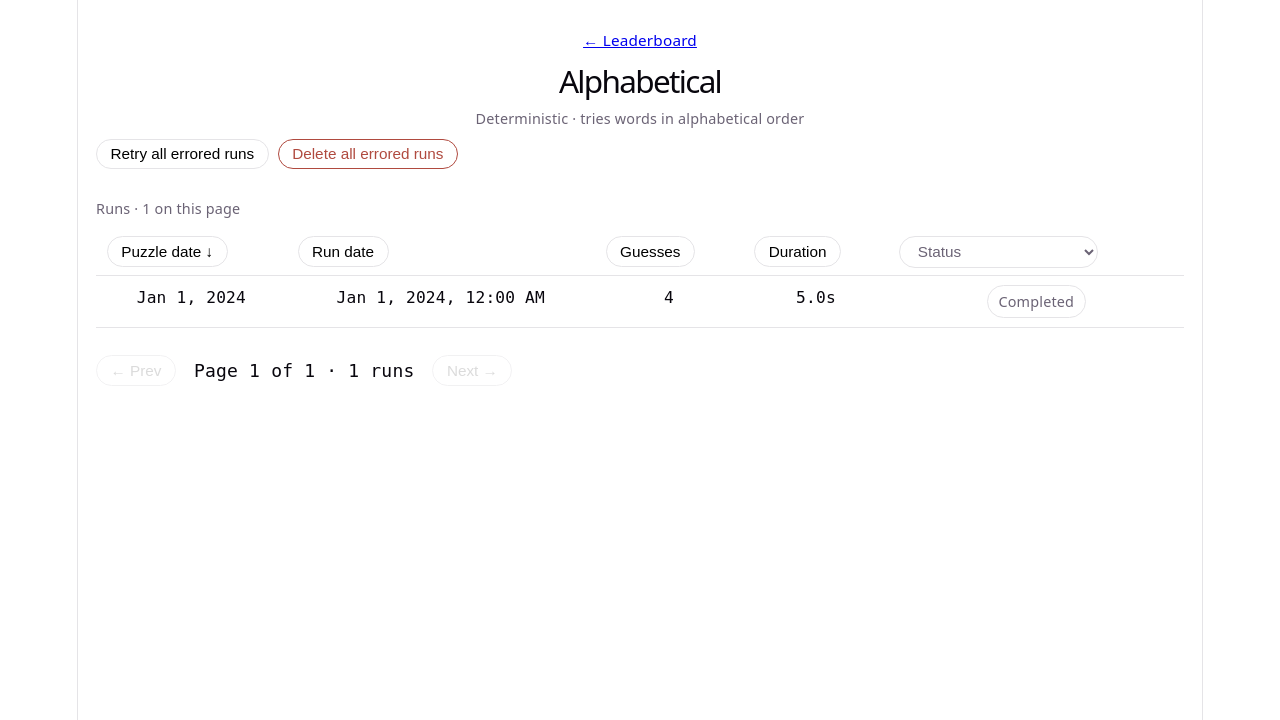
bulk errored-run actions › opens the delete-all modal, confirms, and refetches the count and history
This screenshot has width=1280, height=720.
Click the button "Delete all errored runs". click: click(368, 154)
box: [278,139,458,169]
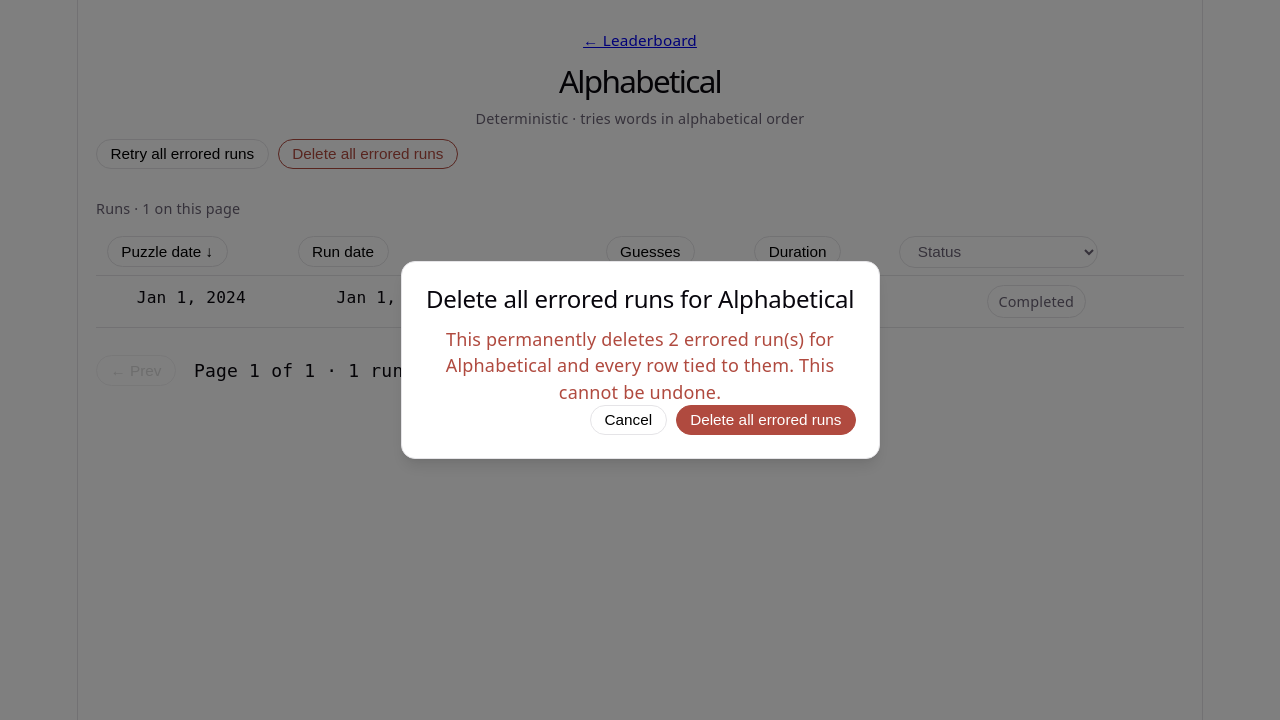
Check: the text "2 errored run(s) for Alphabetical" is shown, box [446,327,834,404]
Click the button "Delete all errored runs". click: click(766, 420)
box: [676,405,856,436]
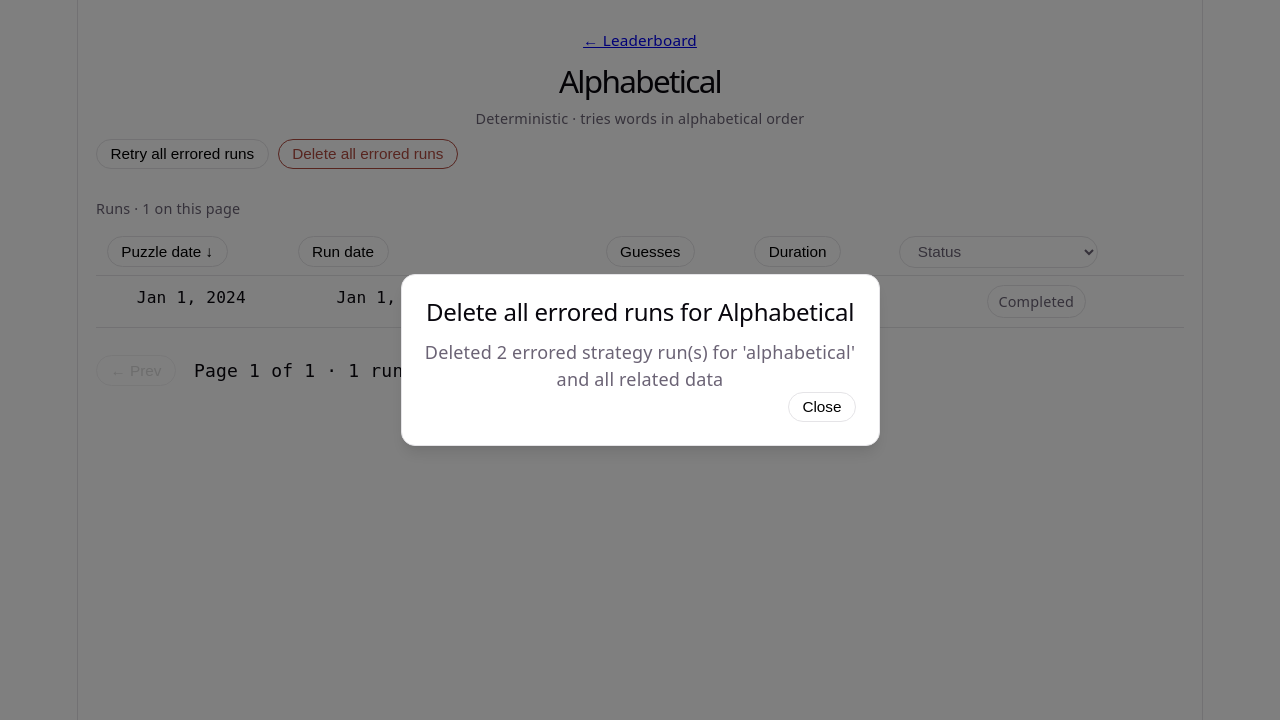
Check: the text "Deleted 2 errored strategy run(s) for 'alphabetical' and all related data" is shown, box [424,339,856,392]
